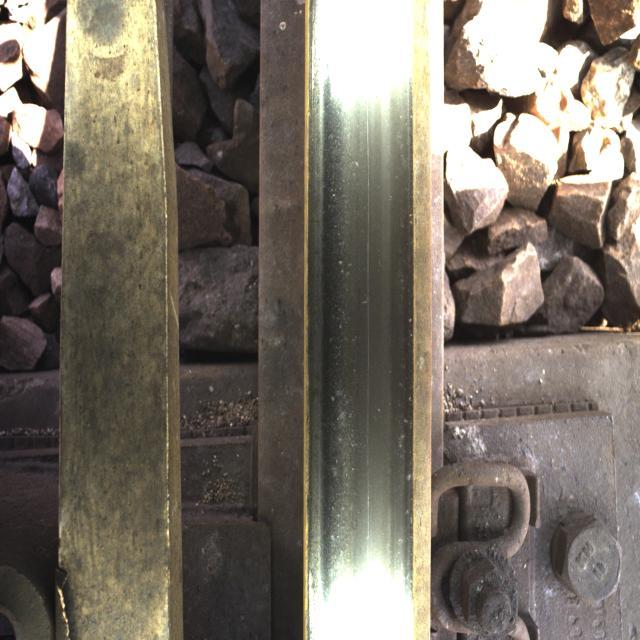break: (316, 30, 402, 562)
